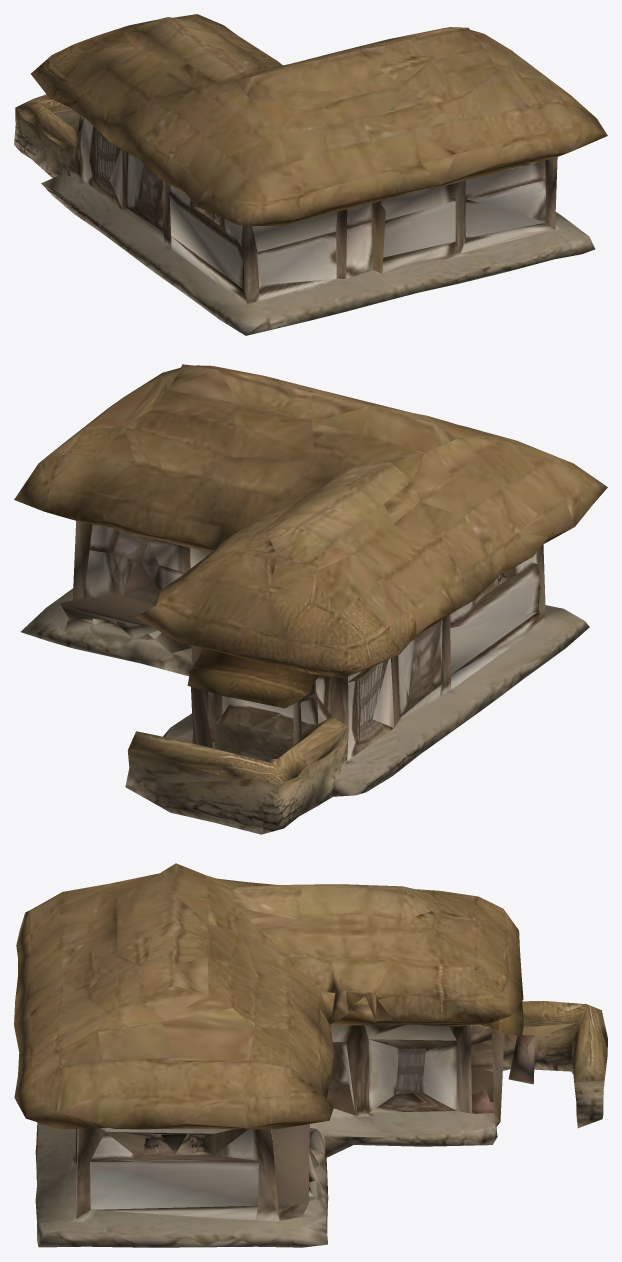
File: choga_lod1.glb
The picture shows the model from 3 angles, top to bottom: view 1: azimuth 30°, elevation 25°; view 2: azimuth 150°, elevation 25°; view 3: azimuth 270°, elevation 25°; orthographic projection. The views are drawn at different scales.
Visible parts, largest first — view 1: tripo_node_44a11992-955a-4f3e-8061-3a89980a5363; view 2: tripo_node_44a11992-955a-4f3e-8061-3a89980a5363; view 3: tripo_node_44a11992-955a-4f3e-8061-3a89980a5363.
Part boxes in pixels (x1,y1,x2,y2): tripo_node_44a11992-955a-4f3e-8061-3a89980a5363: [14, 14, 607, 335]; tripo_node_44a11992-955a-4f3e-8061-3a89980a5363: [14, 364, 607, 834]; tripo_node_44a11992-955a-4f3e-8061-3a89980a5363: [14, 863, 607, 1247].
Size of the model in its own units: 0.8392 by 0.4217 by 0.9781.
1 material, 1 textured.
